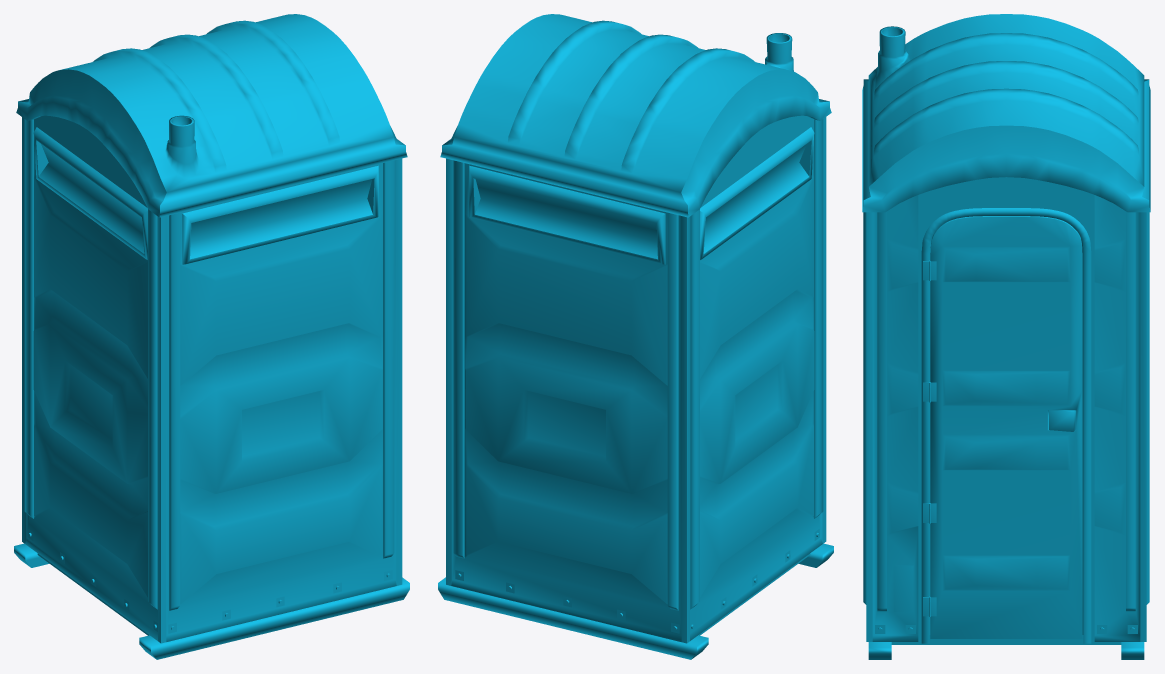
The model's file is SM_Portapotty_01.fbx.
3 renders of one model, left to right at view 1: azimuth 30°, elevation 25°; view 2: azimuth 150°, elevation 25°; view 3: azimuth 270°, elevation 25°, orthographic.
Parts seen in each view (by area): view 1: low_triangulated; view 2: low_triangulated; view 3: low_triangulated.
Part boxes in pixels (box(x1,y1,x2,y2)): low_triangulated: box(14, 14, 409, 659); low_triangulated: box(438, 14, 833, 659); low_triangulated: box(862, 14, 1150, 659).
Bounding box in the file's own units: 120 × 235 × 115.
